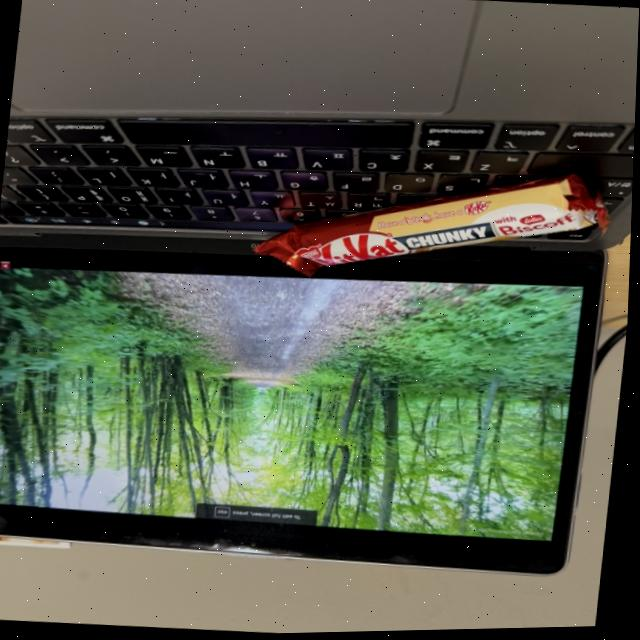chocolate: (251, 156, 622, 301)
